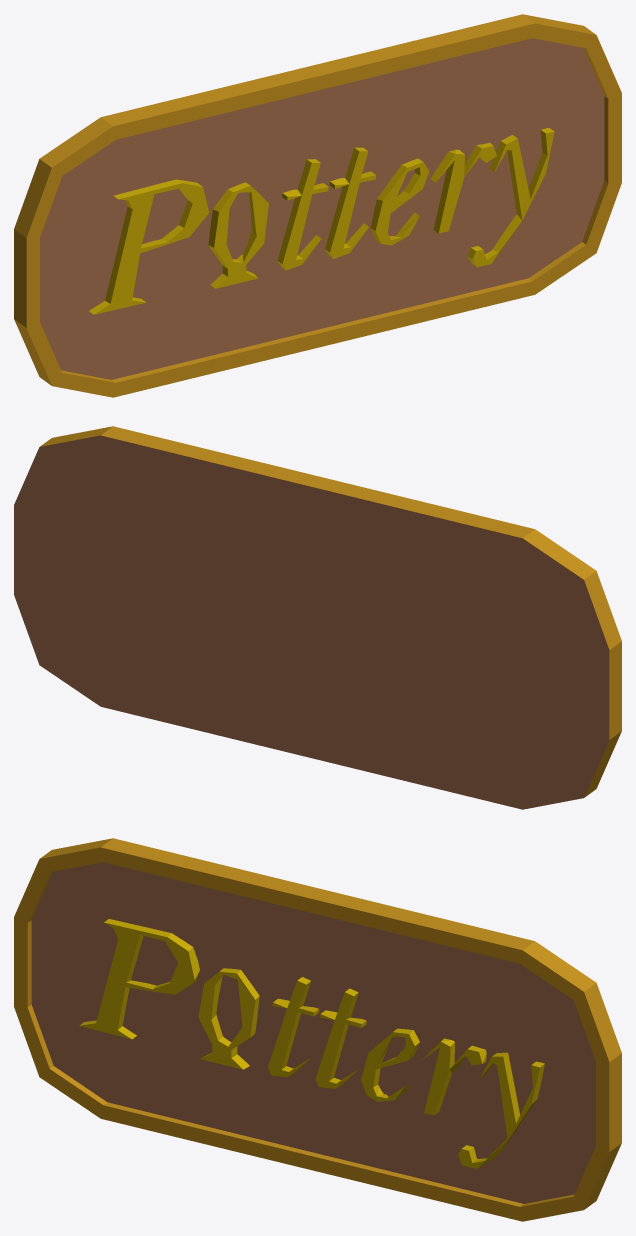
The model's file is PotterySign.fbx.
The picture shows the model from 3 angles, top to bottom: view 1: azimuth 30°, elevation 25°; view 2: azimuth 150°, elevation 25°; view 3: azimuth 330°, elevation 25°; orthographic projection.
Visible parts, largest first — view 1: PotterySign; view 2: PotterySign; view 3: PotterySign.
Part boxes in pixels (x1,y1,x2,y2): PotterySign: [14, 14, 621, 397]; PotterySign: [14, 426, 621, 809]; PotterySign: [14, 838, 621, 1221].
Size of the model in its own units: 120 by 52.31 by 4.92.
